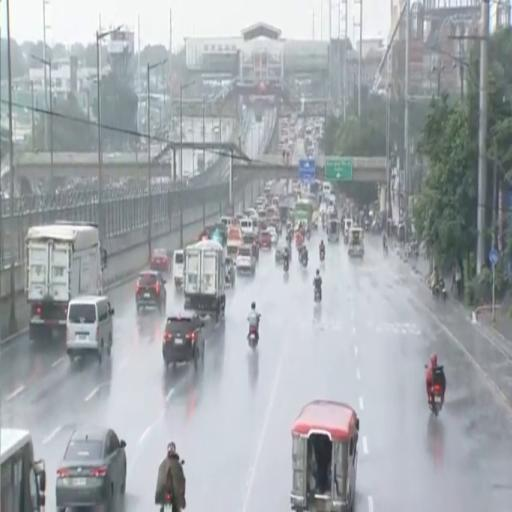bus: (0, 428, 46, 511), (294, 200, 313, 222)
car: (56, 426, 127, 511), (163, 311, 205, 367), (136, 270, 166, 313), (236, 246, 255, 275), (150, 249, 170, 271), (243, 233, 258, 261), (225, 256, 235, 287), (259, 230, 272, 249), (275, 245, 286, 263), (267, 226, 277, 245)
jeepney: (291, 400, 359, 511), (348, 228, 363, 257), (327, 218, 341, 242)
motorcycle: (429, 366, 443, 417), (430, 383, 443, 417), (432, 278, 447, 301), (248, 326, 258, 348), (161, 493, 172, 511), (300, 251, 308, 267), (314, 286, 321, 302), (283, 260, 288, 273), (306, 229, 310, 241), (320, 250, 324, 262), (384, 243, 388, 255)
truck: (26, 222, 106, 341), (183, 240, 226, 322)
